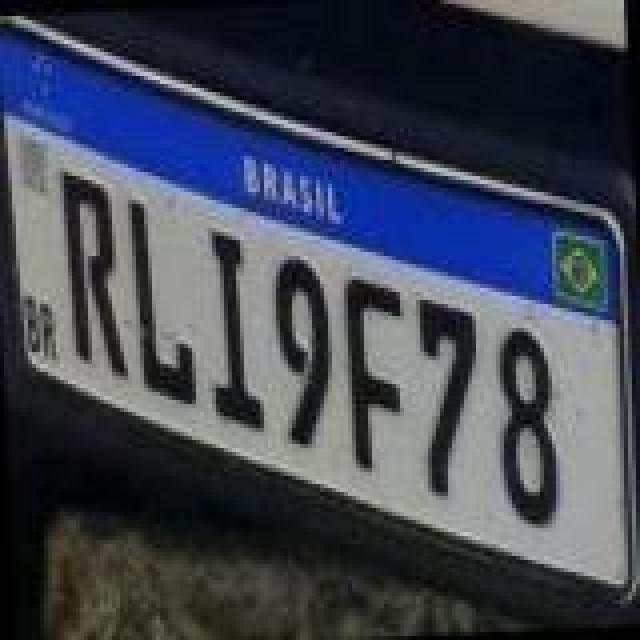7: (412, 292, 484, 500)
8: (492, 324, 564, 532)
9: (270, 252, 338, 452)
F: (340, 272, 412, 480)
I: (204, 220, 268, 436)
L: (124, 196, 196, 412)
R: (60, 168, 132, 384)
